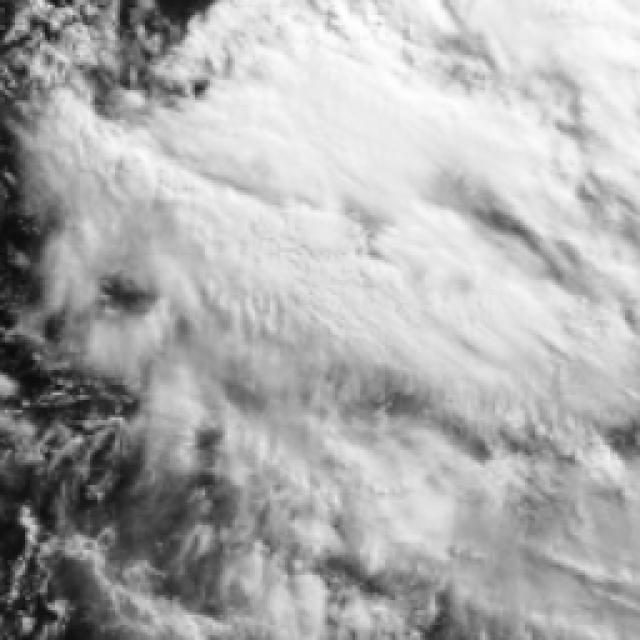CB: (165, 187, 412, 351), (236, 0, 484, 110), (362, 234, 546, 379), (335, 437, 498, 589), (240, 95, 464, 186), (465, 0, 640, 98)
